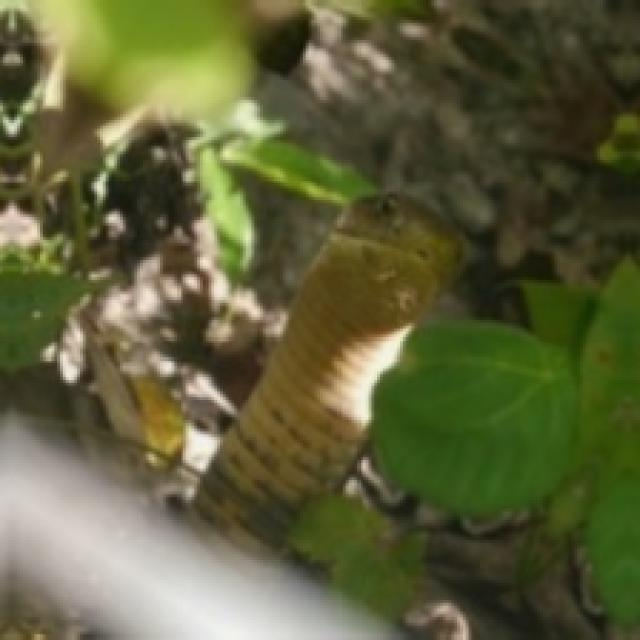king cobra: (194, 194, 460, 543), (194, 197, 457, 543), (0, 423, 389, 637)
